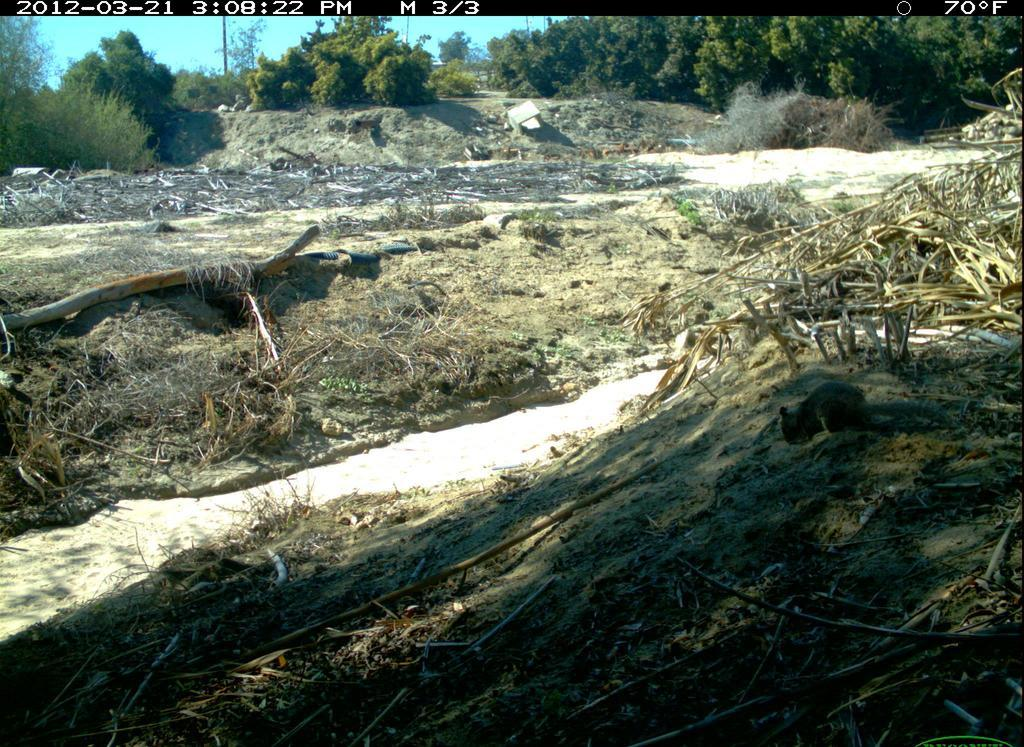squirrel: (766, 368, 894, 453)
